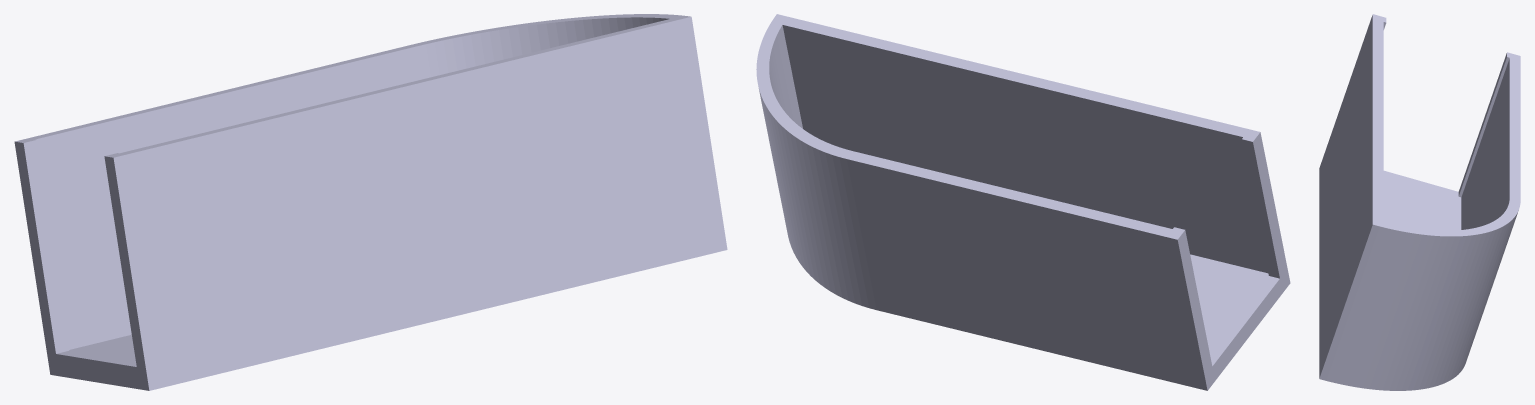
The model's file is arducamsupport_lcover.dae.
3 views of the same model, side by side, from view 1: azimuth 30°, elevation 25°; view 2: azimuth 150°, elevation 25°; view 3: azimuth 270°, elevation 25° (orthographic). The views are drawn at different scales.
Visible parts, largest first — view 1: node0; view 2: node0; view 3: node0.
Part boxes in pixels (x1,y1,x2,y2): node0: (14, 14, 727, 390); node0: (756, 14, 1290, 390); node0: (1319, 14, 1520, 390).
Bounding box in the file's own units: 0.0349 × 0.0141 × 0.0152.
